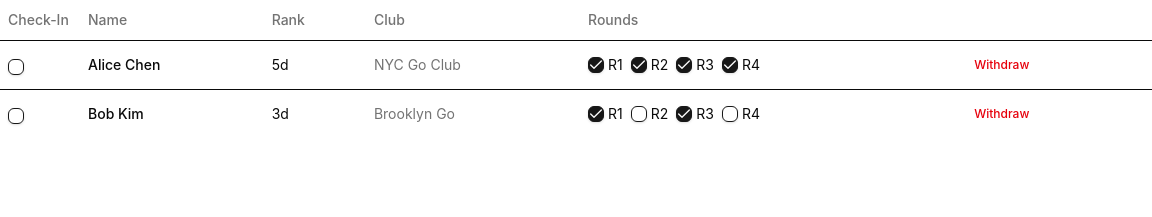
Test case: RegistrationTable › round checkboxes › shows Save Changes button after toggling a checkbox
Expected: the text "Save Changes" is not shown
Uncheck R4 for Alice
Click the checkbox named "R4 for Alice Chen": (730, 64) [722,56,738,72]
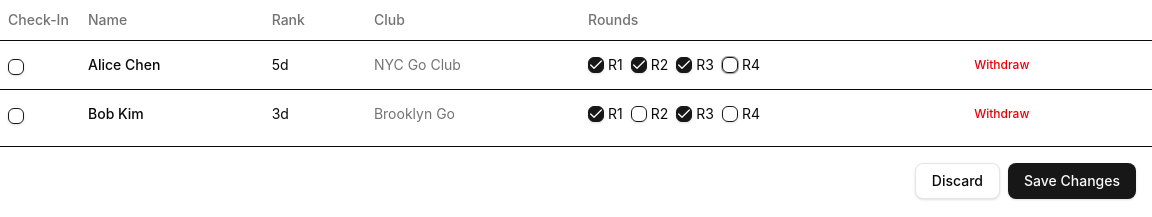
Now the button "Save Changes" is shown, box [1008,162,1136,198]
Now the button "Discard" is shown, box [915,162,1000,198]
